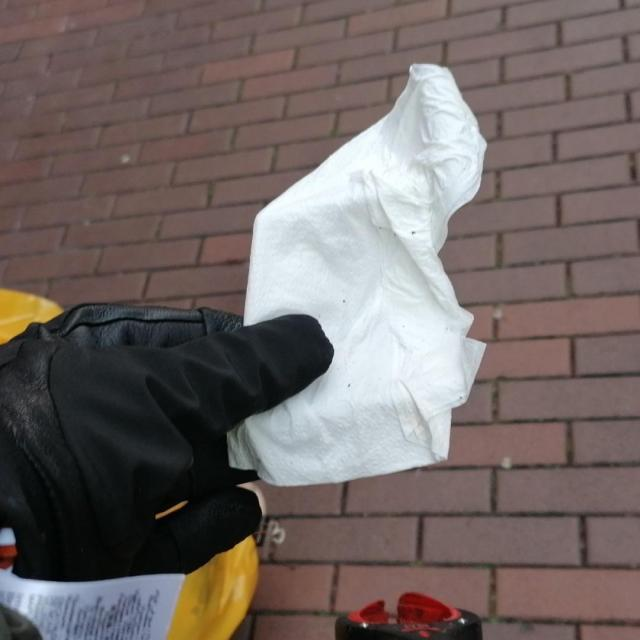Paper: (225, 60, 490, 490)
